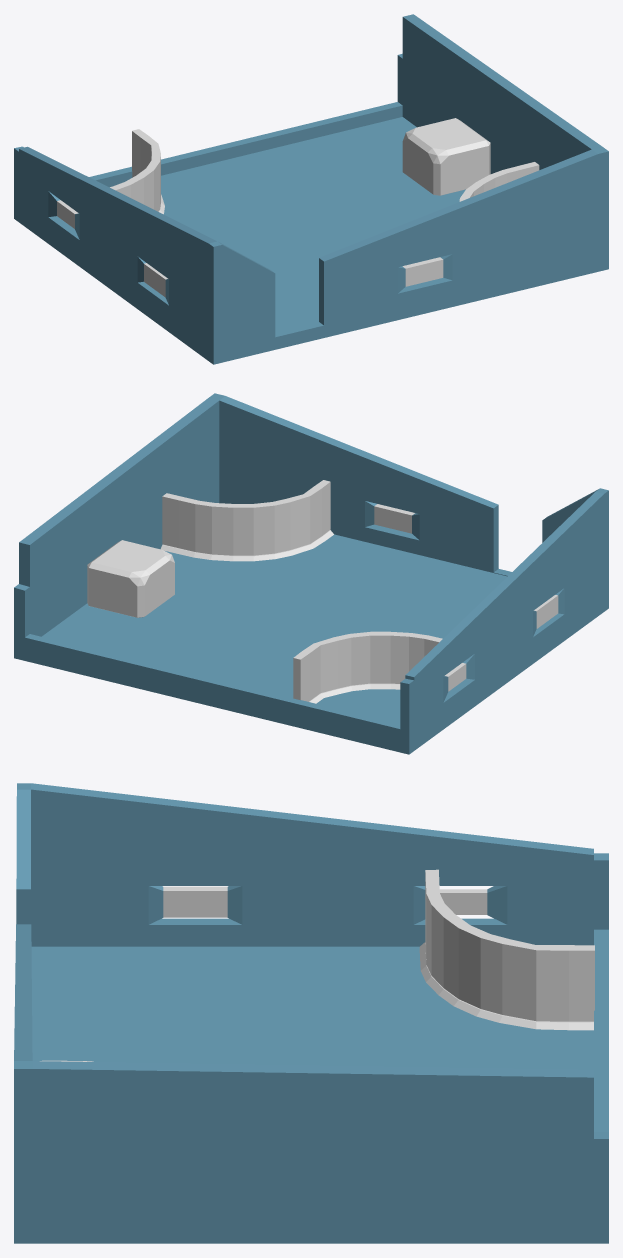
File: Level02.fbx
The picture shows the model from 3 angles, top to bottom: view 1: azimuth 30°, elevation 25°; view 2: azimuth 150°, elevation 25°; view 3: azimuth 270°, elevation 25°; orthographic projection. The views are drawn at different scales.
Visible parts, largest first — view 1: BaseLevelTemplate, Cube, ForceField2, ForceField1; view 2: BaseLevelTemplate, ForceField1, ForceField2, Cube, ForceField1Stance, ForceField2Stance; view 3: BaseLevelTemplate, ForceField2, ForceField2Stance.
Part boxes in pixels (x1,y1,x2,y2): BaseLevelTemplate: (14, 14, 608, 364); Cube: (402, 118, 490, 195); ForceField2: (110, 129, 160, 211); ForceField1: (459, 162, 539, 201); BaseLevelTemplate: (14, 393, 608, 754); ForceField1: (162, 480, 330, 555); ForceField2: (293, 631, 442, 701); Cube: (87, 540, 174, 617); ForceField1Stance: (161, 530, 333, 561); ForceField2Stance: (309, 683, 400, 703); BaseLevelTemplate: (14, 783, 608, 1243); ForceField2: (425, 869, 594, 1021); ForceField2Stance: (419, 942, 593, 1030).
Size of the model in its own units: 5192 by 1482 by 4570.
